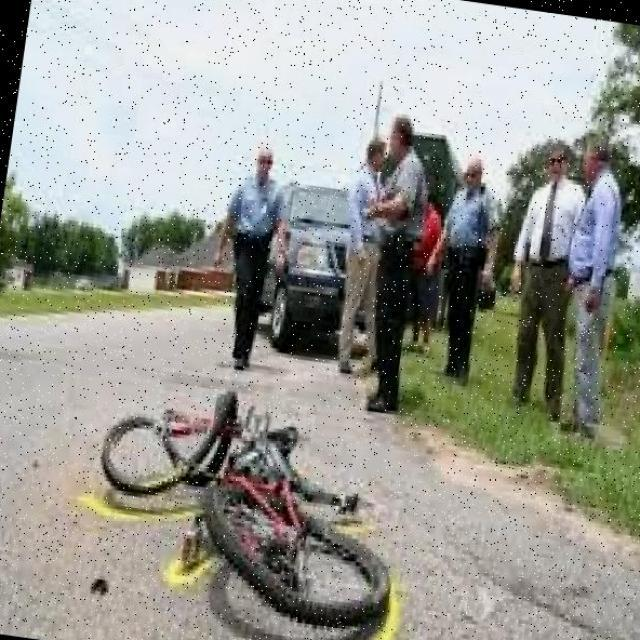accident: (71, 346, 436, 640)
